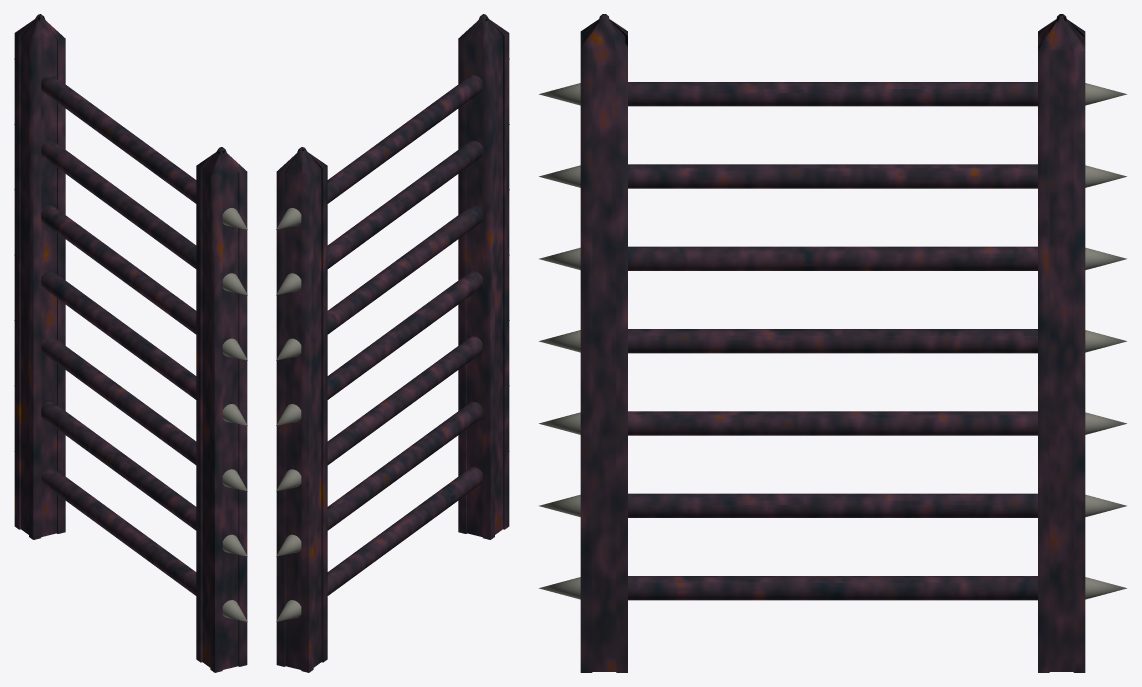
Rendered from CA_016_iron_ladder.glb.
3 renders of one model, left to right at view 1: azimuth 30°, elevation 25°; view 2: azimuth 150°, elevation 25°; view 3: azimuth 270°, elevation 25°, orthographic. The views are drawn at different scales.
Visible parts, largest first — view 1: ladder_support, ladder_bars, spikes; view 2: ladder_support, ladder_bars, spikes; view 3: ladder_bars, ladder_support, spikes.
Boxes of the visible parts, x1,y1,x2,y2 form: ladder_support: [14, 14, 247, 672]; ladder_bars: [41, 75, 196, 595]; spikes: [14, 58, 247, 621]; ladder_support: [276, 14, 509, 672]; ladder_bars: [327, 75, 482, 595]; spikes: [276, 58, 509, 621]; ladder_bars: [628, 82, 1037, 600]; ladder_support: [580, 14, 1085, 672]; spikes: [539, 83, 1126, 599].
Size of the model in its own units: 0.18 by 2.73 by 2.25.
Materials: 2 (1 with a texture image).
